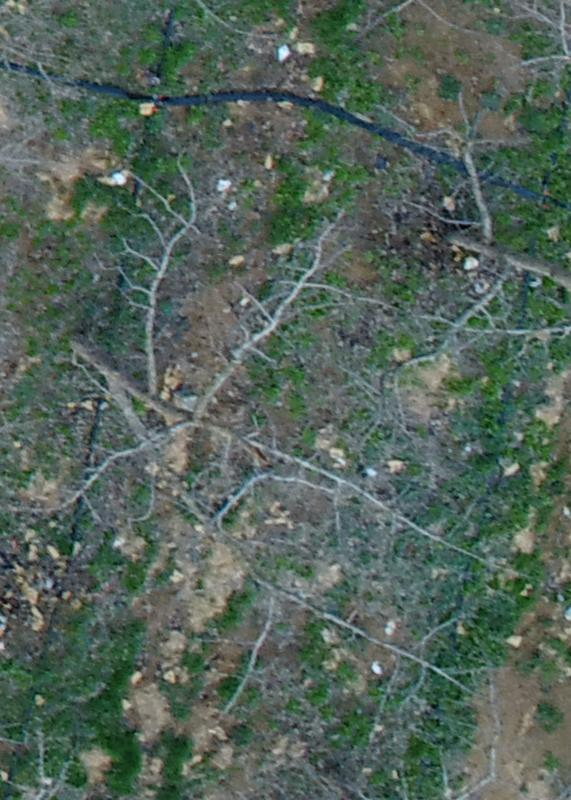apple: (20, 153, 485, 704)
